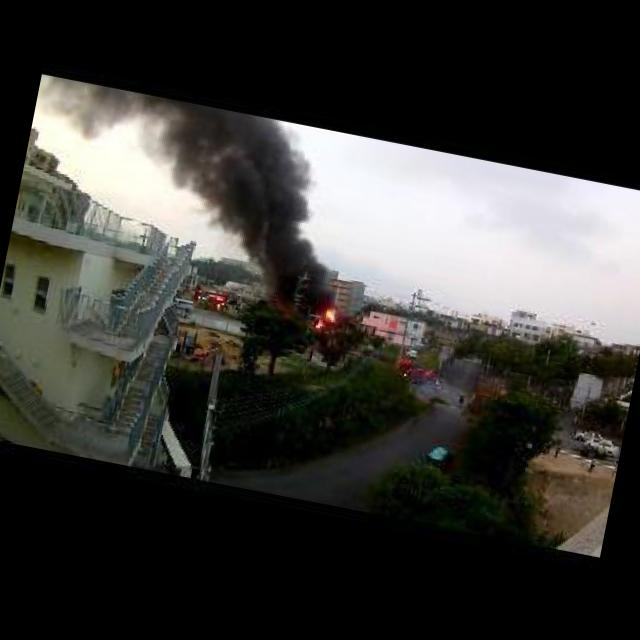fire: (323, 308, 339, 322), (318, 320, 327, 327)
smoke: (147, 93, 328, 238), (233, 209, 349, 318), (29, 70, 168, 160)
